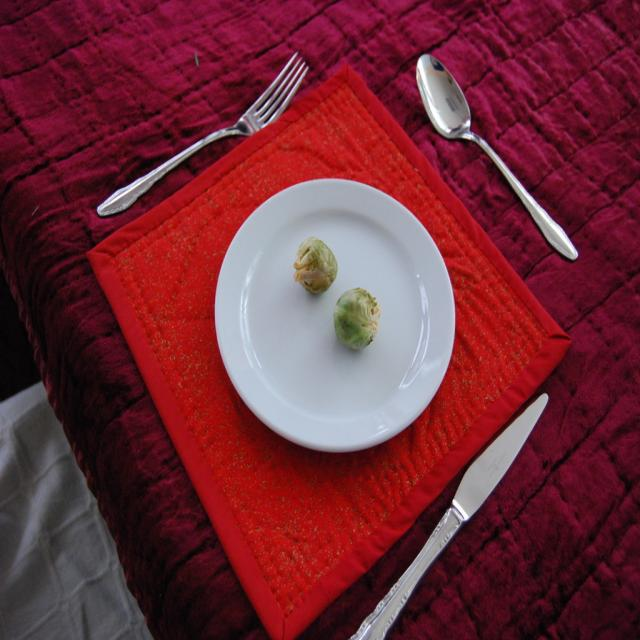non-organic waste: (224, 179, 449, 458)
